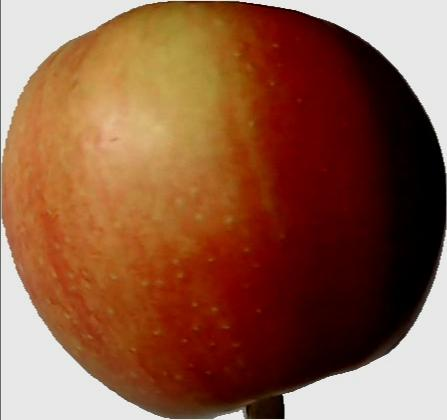Apple Ripe: (0, 0, 447, 416)
